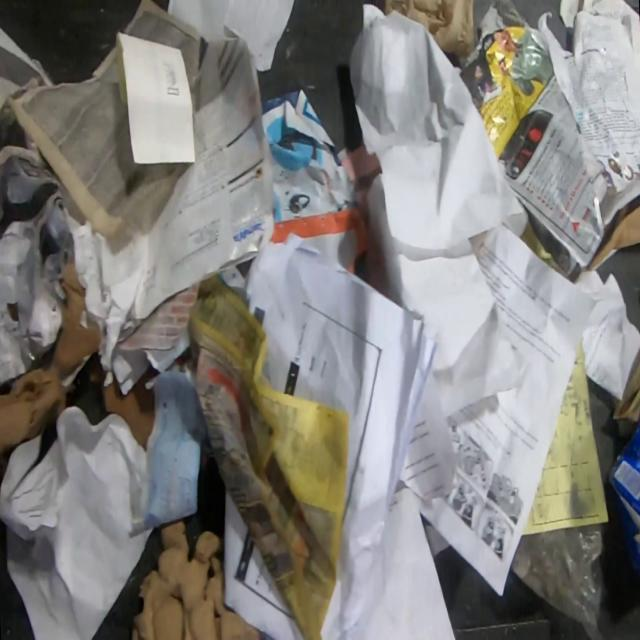cardboard: (0, 260, 103, 460), (128, 517, 263, 640), (83, 351, 162, 452), (269, 206, 370, 274), (604, 417, 640, 572), (589, 202, 640, 270), (611, 345, 640, 440)
metal: (453, 617, 552, 640)
soft_plastic: (508, 522, 611, 640)
